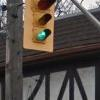Traffic light: (20, 5, 59, 52)
